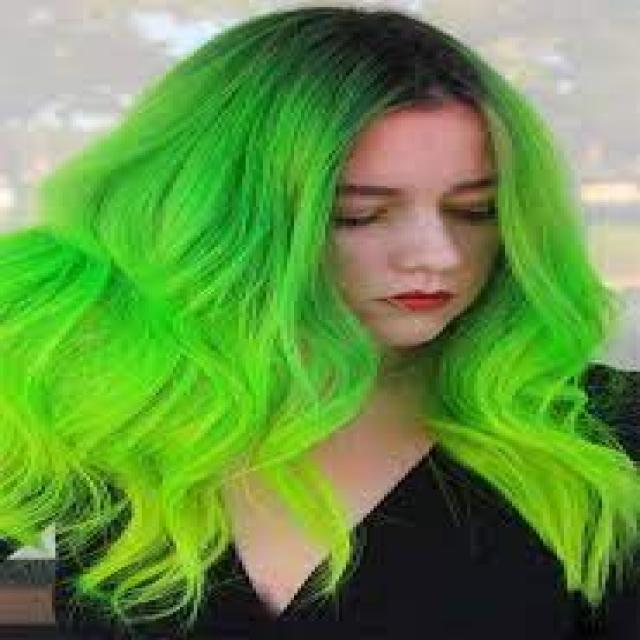Nonhelmet: (189, 2, 563, 368)
